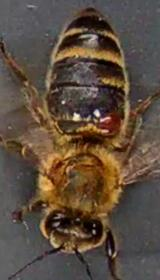varroa_mite: (92, 106, 126, 132)
